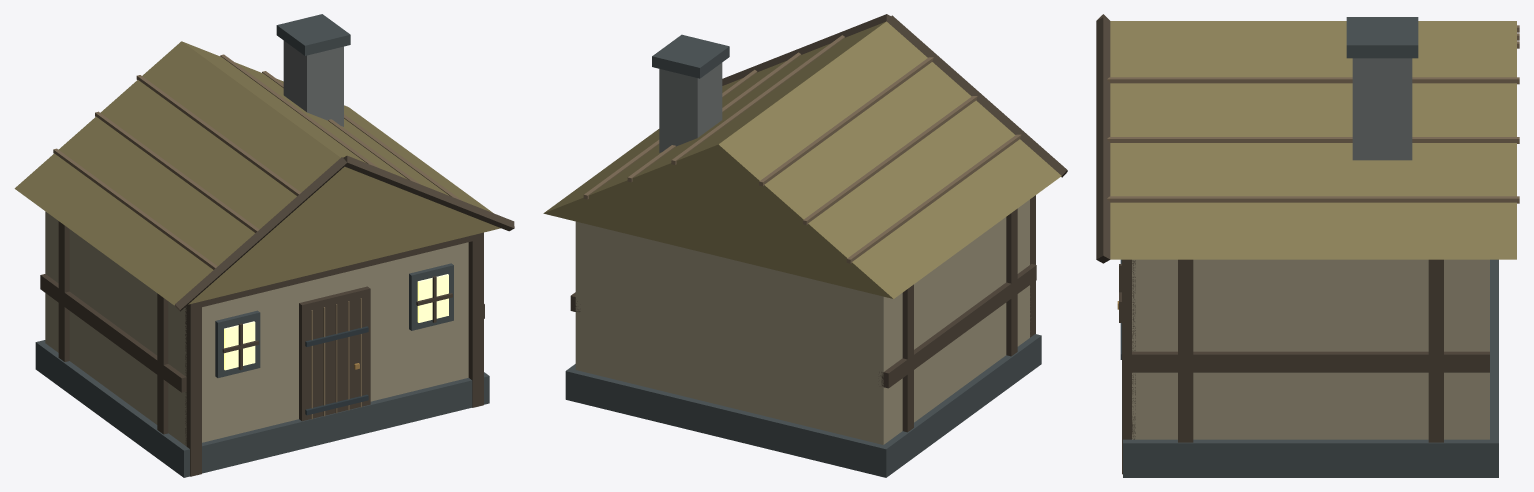
File: BLD_House_01_Thatch.glb
3 renders of one model, left to right at view 1: azimuth 30°, elevation 25°; view 2: azimuth 150°, elevation 25°; view 3: azimuth 270°, elevation 25°, orthographic. The views are drawn at different scales.
Visible parts, largest first — view 1: BLD_House_01_Thatch; view 2: BLD_House_01_Thatch; view 3: BLD_House_01_Thatch.
Part boxes in pixels (x1,y1,x2,y2): BLD_House_01_Thatch: (14, 14, 514, 477); BLD_House_01_Thatch: (543, 14, 1067, 477); BLD_House_01_Thatch: (1096, 14, 1519, 477).
Bounding box in the file's own units: 4.16 × 3.71 × 3.55.
